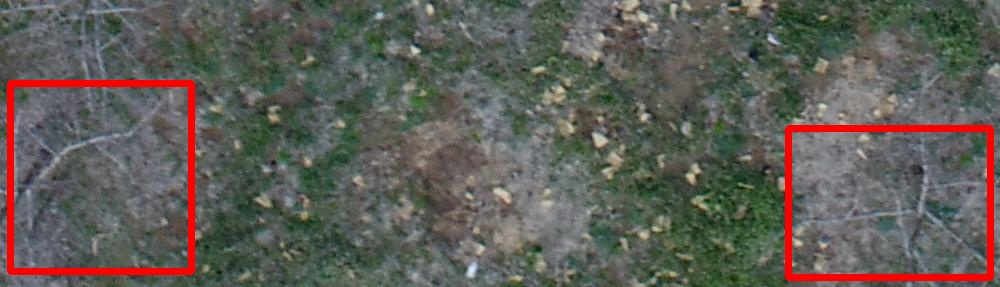apple: (10, 83, 191, 271), (788, 128, 990, 277)
